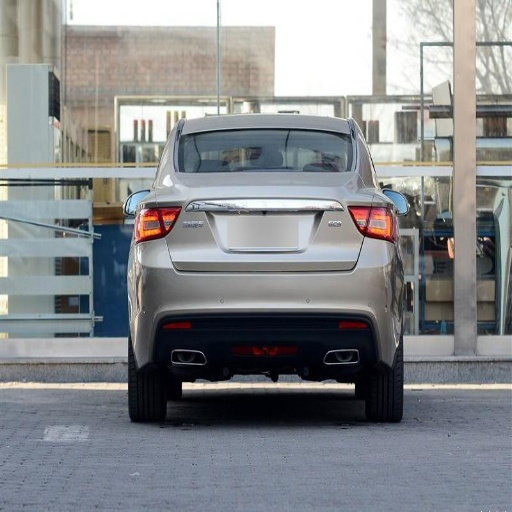back_bumper: (129, 236, 400, 390)
